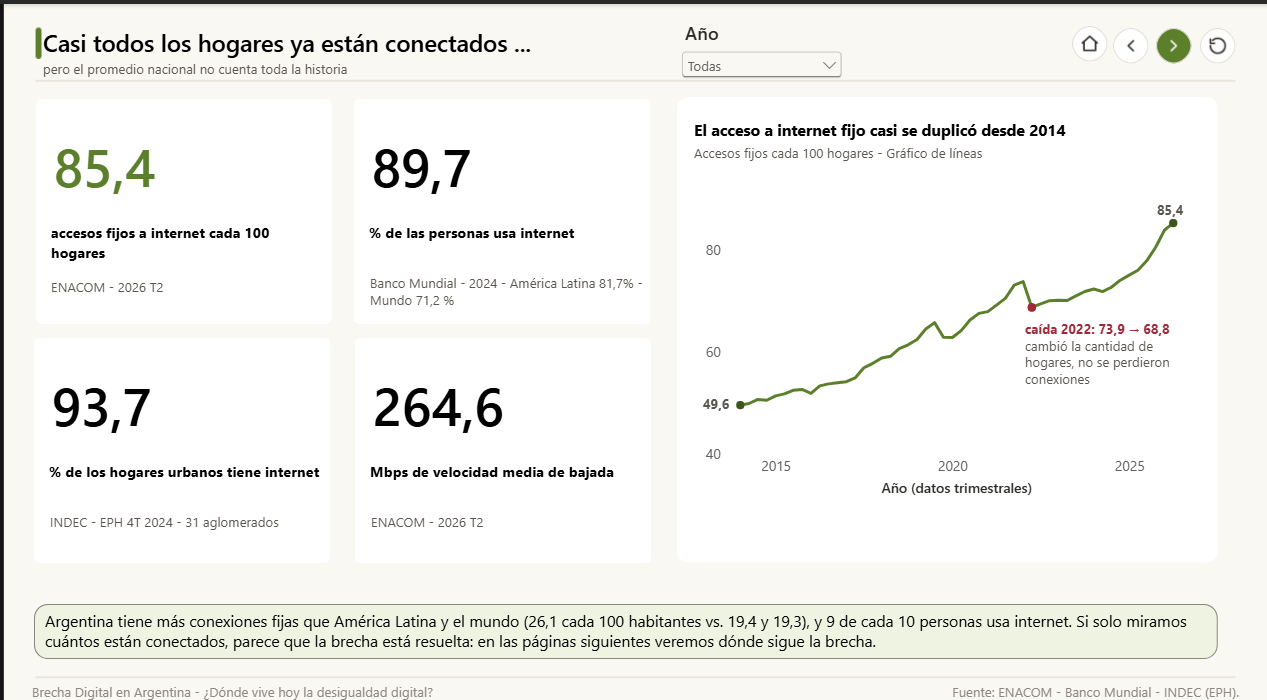

This screenshot's page, from the dashboard's own definition file:
{"tool":"powerbi","page":{"name":"1. Conectados","canvas":[1280,720],"ordinal":1},"visuals":[{"type":"textbox","box":[39.7,22.8,576.7,40.2],"z":0},{"type":"shape","box":[32,96,300,228],"z":0,"group":"g1"},{"type":"shape","box":[354.5,96.4,300,228],"z":0,"group":"g2"},{"type":"shape","box":[30.3,338.4,300,228],"z":0,"group":"g3"},{"type":"shape","box":[355.5,338.4,300,228],"z":0,"group":"g4"},{"type":"textbox","box":[39.7,57.1,320.1,25.9],"z":1000},{"type":"cardVisual","fields":{"Data":["fact_AccesosNacional.Accesos 100 hogares (ultimo)"]},"box":[34.1,116.7,295.4,93.4],"z":1000,"group":"g1"},{"type":"cardVisual","fields":{"Data":["fact_UsuariosInternetMundo.Usuarios internet ARG (ultimo)"]},"box":[356.6,117.1,295.4,93.4],"z":1000,"group":"g2"},{"type":"cardVisual","fields":{"Data":["fact_EphTicAreas.Hogares con internet EPH (ultimo)"]},"box":[32.4,359.1,295.4,93.4],"z":1000,"group":"g3"},{"type":"cardVisual","fields":{"Data":["fact_AccesosNacional.Velocidad media (ultimo)"]},"box":[357.6,359.1,295.4,93.4],"z":1000,"group":"g4"},{"type":"actionButton","box":[1082,22.8,36,36],"z":2000},{"type":"textbox","box":[47.6,220.8,284.6,42.2],"z":2000,"group":"g1"},{"type":"textbox","box":[370.1,221.2,284.6,42.2],"z":2000,"group":"g2"},{"type":"textbox","box":[45.9,463.2,284.6,42.2],"z":2000,"group":"g3"},{"type":"textbox","box":[371.1,463.2,284.6,42.2],"z":2000,"group":"g4"},{"type":"actionButton","box":[1124,24,36,36],"z":3000},{"type":"textbox","box":[371,273.7,280.8,39.7],"z":3000,"group":"g2"},{"type":"textbox","box":[47.6,277.4,284.6,21.5],"z":3000,"group":"g1"},{"type":"textbox","box":[46.8,515.7,280.8,39.7],"z":3000,"group":"g3"},{"type":"textbox","box":[372,515.7,280.8,39.7],"z":3000,"group":"g4"},{"type":"actionButton","box":[1168,24,36,36],"z":4000},{"type":"actionButton","box":[1212,24,36,36],"z":5000},{"type":"textbox","box":[28,687.8,421.2,28],"z":6000},{"type":"textbox","box":[652,688,600,28],"z":7000},{"type":"group","id":"g1","title":"Grupo 1","box":[32,96,300.2,228],"z":8000},{"type":"group","id":"g2","title":"Grupo 1","box":[354.5,96.4,300.2,228],"z":9000},{"type":"group","id":"g3","title":"Grupo 1","box":[30.3,338.4,299.7,227.8],"z":10000},{"type":"group","id":"g4","title":"Grupo 1","box":[355.5,338.4,299.7,227.8],"z":11000},{"type":"shape","box":[681.6,94.5,548,472],"z":12000},{"type":"textbox","box":[699.6,116.3,409.3,25.5],"z":13000},{"type":"textbox","box":[699.6,141.8,329.9,23.6],"z":14000},{"type":"lineChart","fields":{"Category":["dim_Fecha.Fecha"],"Y":["Sum(fact_AccesosNacional.Accesos_100hogares)","fact_AccesosNacional.Punto caida 2022","fact_AccesosNacional.Puntos extremos"]},"box":[693.9,175.8,522.8,340.3],"z":15000},{"type":"textbox","box":[708.1,396.1,28.4,18.9],"z":16000},{"type":"textbox","box":[1168.4,199.5,36.9,19.9],"z":17000},{"type":"textbox","box":[1035.6,320.2,168.1,112.9],"z":18000},{"type":"shape","box":[30.3,607.9,1199.6,55.8],"z":19000},{"type":"textbox","box":[41.6,614.5,1175.1,47.3],"z":20000},{"type":"slicer","fields":{"Values":["dim_Fecha.Anio"]},"box":[682.1,16.2,172.3,66.9],"z":21000}]}

Visuals, with their boxes in screenshot pixels (x1, y1, x2, y2), scaled from the page's 1280x720 canvas onto the 1267x700 screenshot:
textbox: [39,22,610,61]
shape: [32,93,329,315]
shape: [351,94,648,315]
shape: [30,329,327,551]
shape: [352,329,649,551]
textbox: [39,56,356,81]
cardVisual - fact_AccesosNacional.Accesos 100 hogares (ultimo): [34,113,326,204]
cardVisual - fact_UsuariosInternetMundo.Usuarios internet ARG (ultimo): [353,114,645,205]
cardVisual - fact_EphTicAreas.Hogares con internet EPH (ultimo): [32,349,324,440]
cardVisual - fact_AccesosNacional.Velocidad media (ultimo): [354,349,646,440]
actionButton: [1071,22,1107,57]
textbox: [47,215,329,256]
textbox: [366,215,648,256]
textbox: [45,450,327,491]
textbox: [367,450,649,491]
actionButton: [1113,23,1148,58]
textbox: [367,266,645,305]
textbox: [47,270,329,291]
textbox: [46,501,324,540]
textbox: [368,501,646,540]
actionButton: [1156,23,1192,58]
actionButton: [1200,23,1235,58]
textbox: [28,669,445,696]
textbox: [645,669,1239,696]
"Grupo 1" group: [32,93,329,315]
"Grupo 1" group: [351,94,648,315]
"Grupo 1" group: [30,329,327,550]
"Grupo 1" group: [352,329,649,550]
shape: [675,92,1217,551]
textbox: [692,113,1098,138]
textbox: [692,138,1019,161]
lineChart - dim_Fecha.Fecha x Sum(fact_AccesosNacional.Accesos_100hogares): [687,171,1204,502]
textbox: [701,385,729,403]
textbox: [1157,194,1193,213]
textbox: [1025,311,1191,421]
shape: [30,591,1217,645]
textbox: [41,597,1204,643]
slicer - dim_Fecha.Anio: [675,16,846,81]
